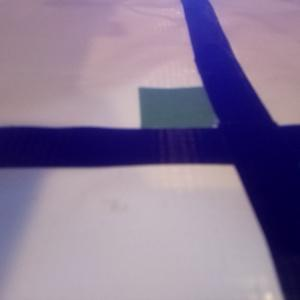top_left: (140, 87, 252, 164)
